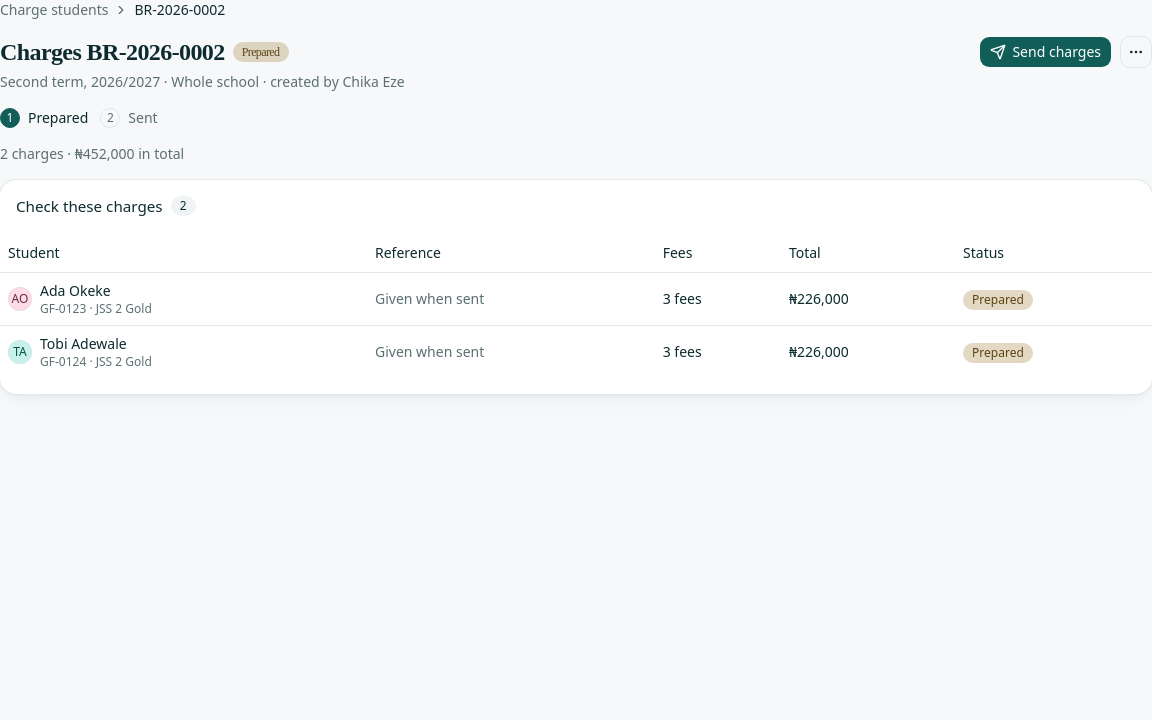
BillingRunPage › keeps the round when Keep them is pressed
This screenshot has width=1152, height=720.
Click the button named "Actions for BR-2026-0002".
click(1136, 52)  # box [1120, 36, 1151, 68]
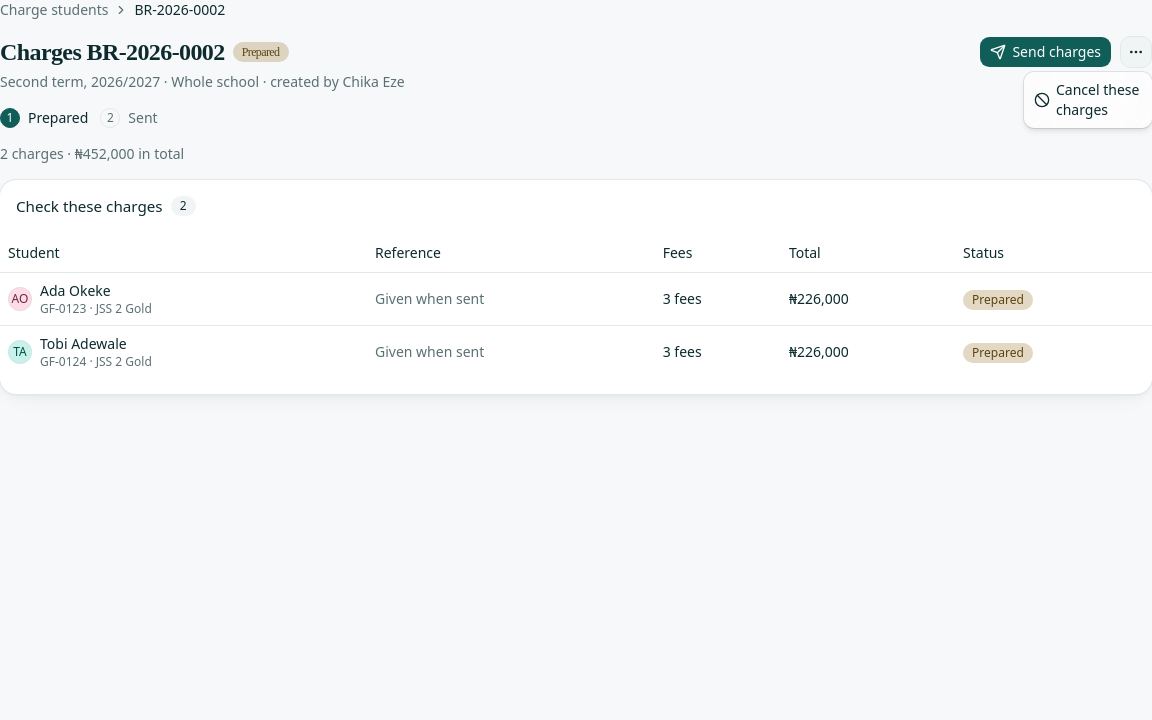
Click the menu item "Cancel these charges".
click(1088, 100)  # box [1028, 76, 1148, 124]
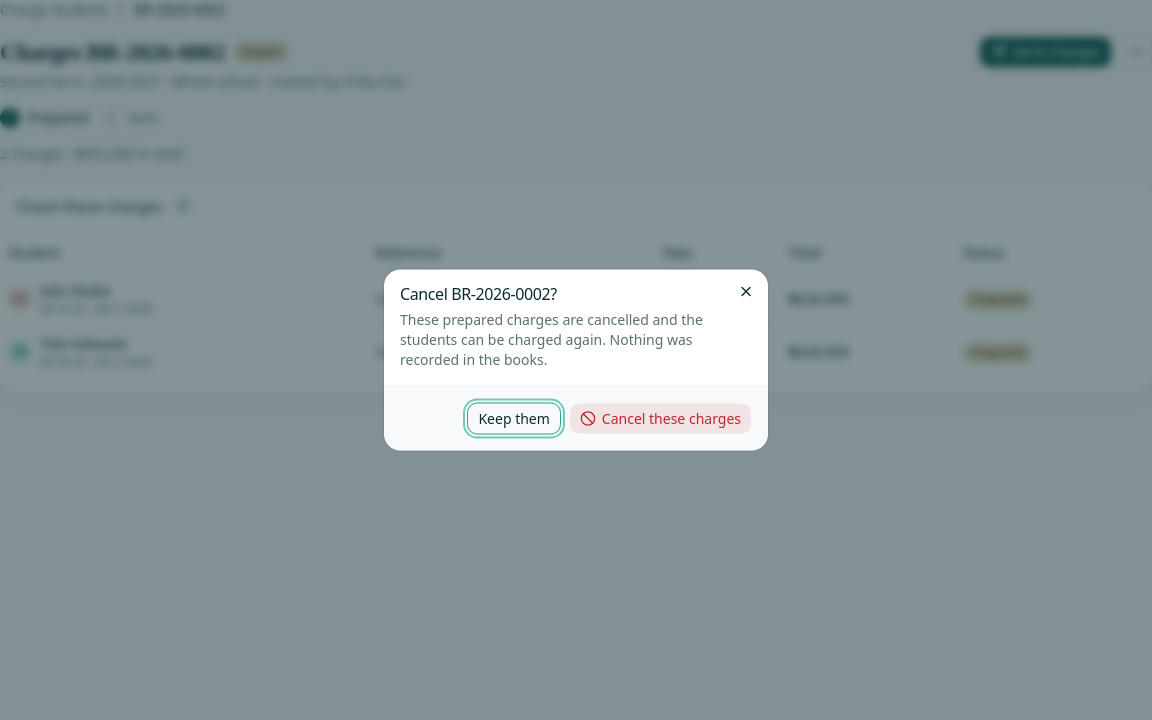
Click the button "Keep them".
click(514, 418)  # box [467, 402, 561, 434]
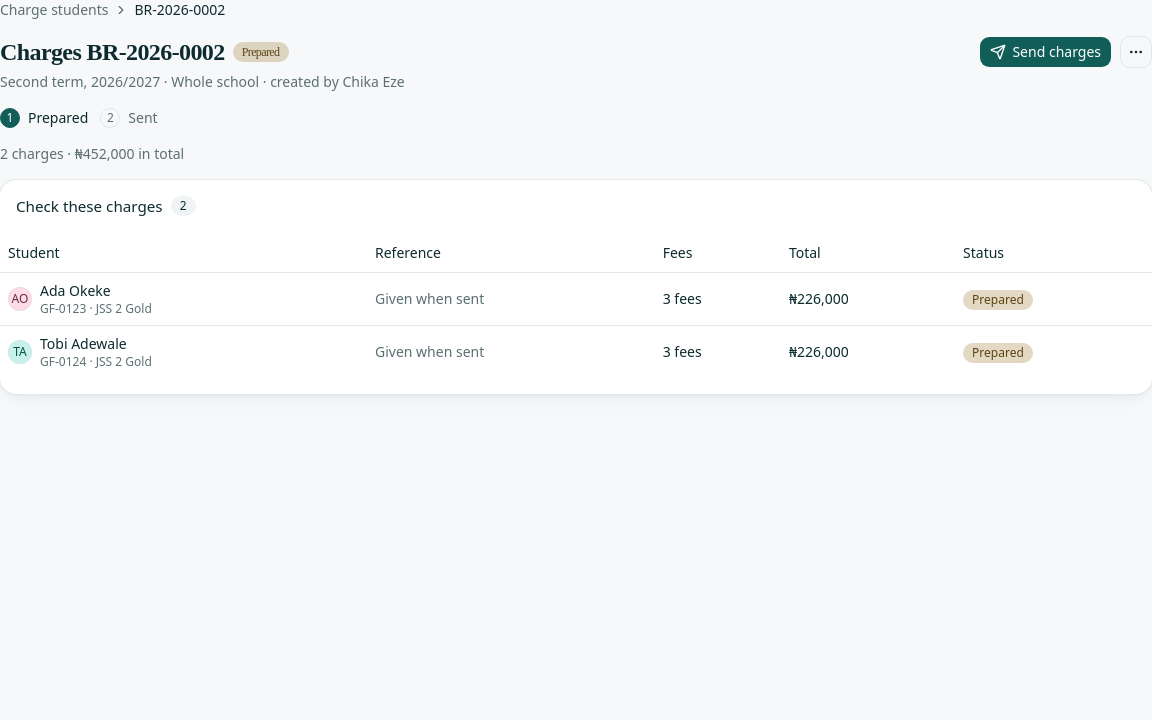
expect the dialog is gone: met
